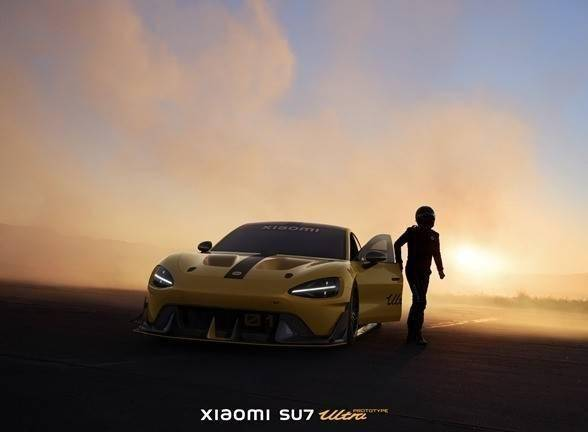su7: (135, 216, 388, 361)
